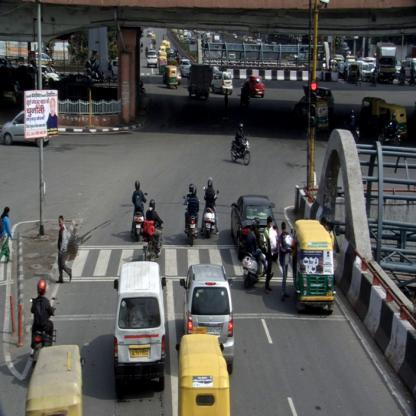car: (114, 261, 166, 392), (181, 264, 234, 374), (231, 195, 279, 263), (241, 74, 265, 99), (212, 72, 232, 96), (146, 50, 158, 69)
motorcycle: (29, 280, 55, 368), (242, 220, 266, 288), (200, 174, 219, 240), (142, 200, 161, 264), (182, 182, 200, 246), (130, 180, 146, 243), (232, 124, 250, 164)
truck: (376, 42, 396, 86), (187, 64, 210, 99)
